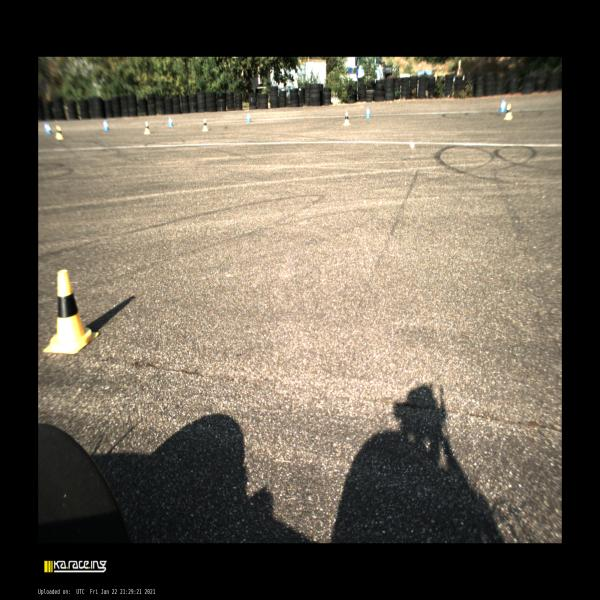blue_cone: (499, 100, 506, 112), (103, 120, 109, 130), (366, 107, 371, 118), (46, 123, 51, 134), (168, 116, 173, 126), (246, 112, 250, 122)
yellow_cone: (43, 270, 99, 354), (504, 104, 512, 120), (342, 112, 351, 126), (202, 118, 208, 132), (56, 126, 62, 140), (144, 121, 150, 134)
